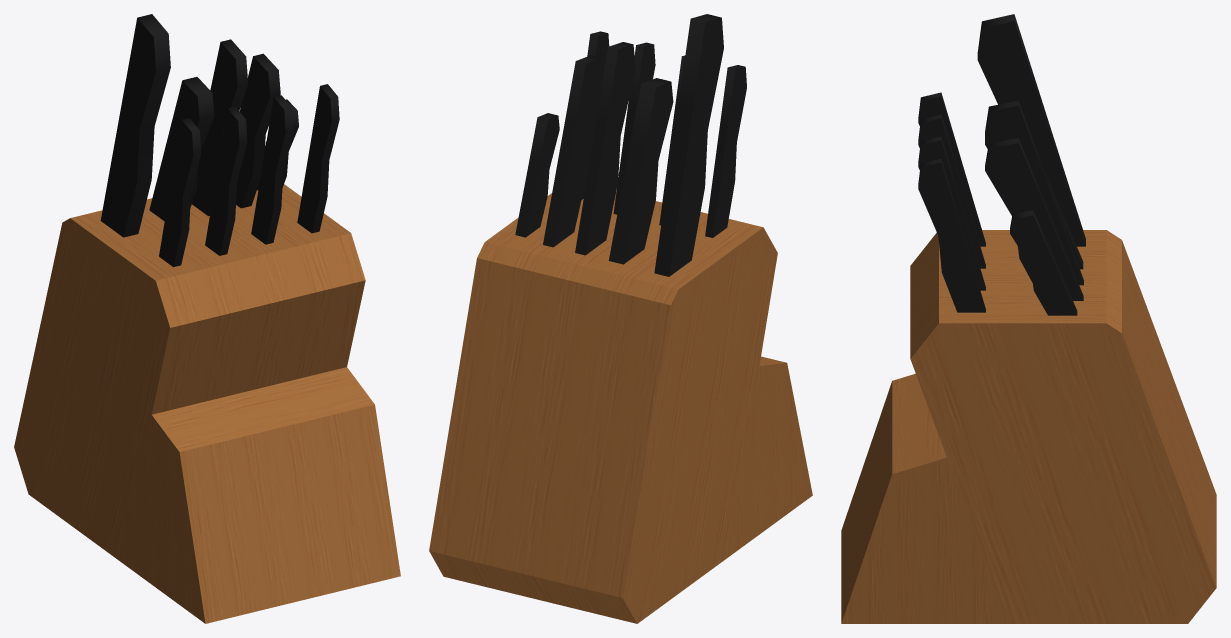
The model's file is Knife_Block.FBX.
3 renders of one model, left to right at view 1: azimuth 30°, elevation 25°; view 2: azimuth 150°, elevation 25°; view 3: azimuth 270°, elevation 25°, orthographic. The views are drawn at different scales.
Visible parts, largest first — view 1: Knife Block; view 2: Knife Block; view 3: Knife Block.
Boxes of the visible parts, x1,y1,x2,y2 form: Knife Block: (14,14,400,623); Knife Block: (429,14,812,623); Knife Block: (841,14,1216,623).
Size of the model in its own units: 50 by 131 by 84.83.
